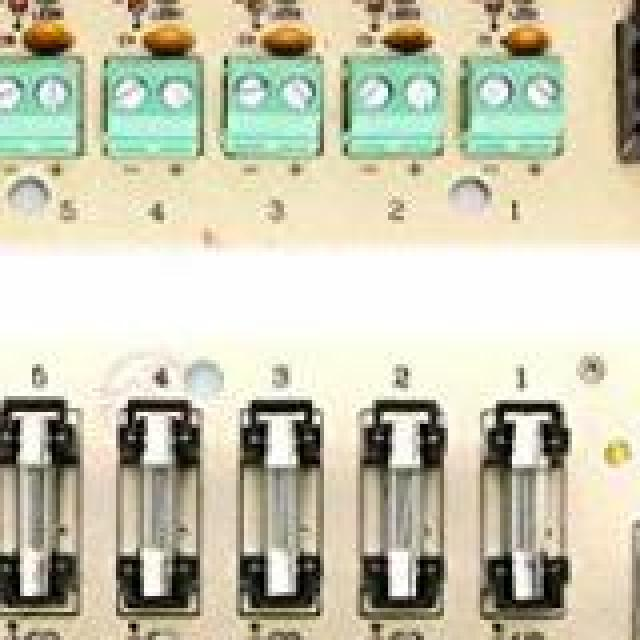connector: (204, 44, 332, 202), (328, 40, 452, 178), (464, 40, 580, 184), (88, 56, 218, 184), (0, 44, 84, 176)
fuse: (476, 372, 566, 622), (356, 388, 448, 608), (0, 380, 84, 604), (120, 404, 210, 608), (240, 392, 322, 604)
switch: (608, 492, 640, 640)
